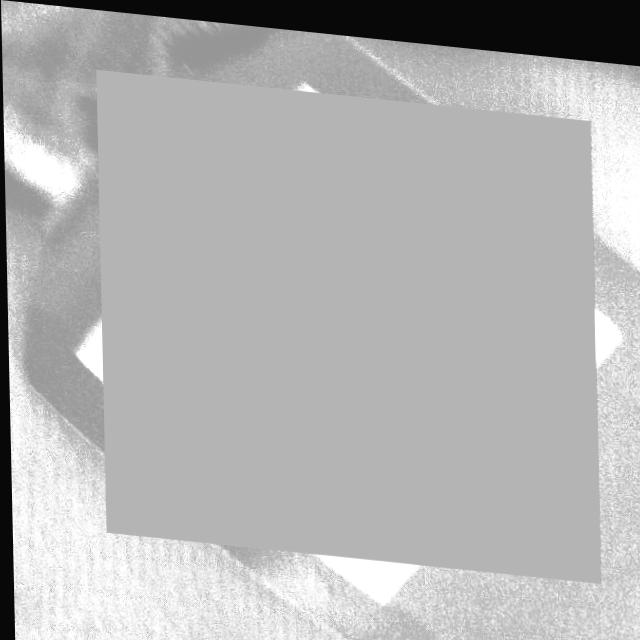qr_code: (95, 68, 597, 571)
